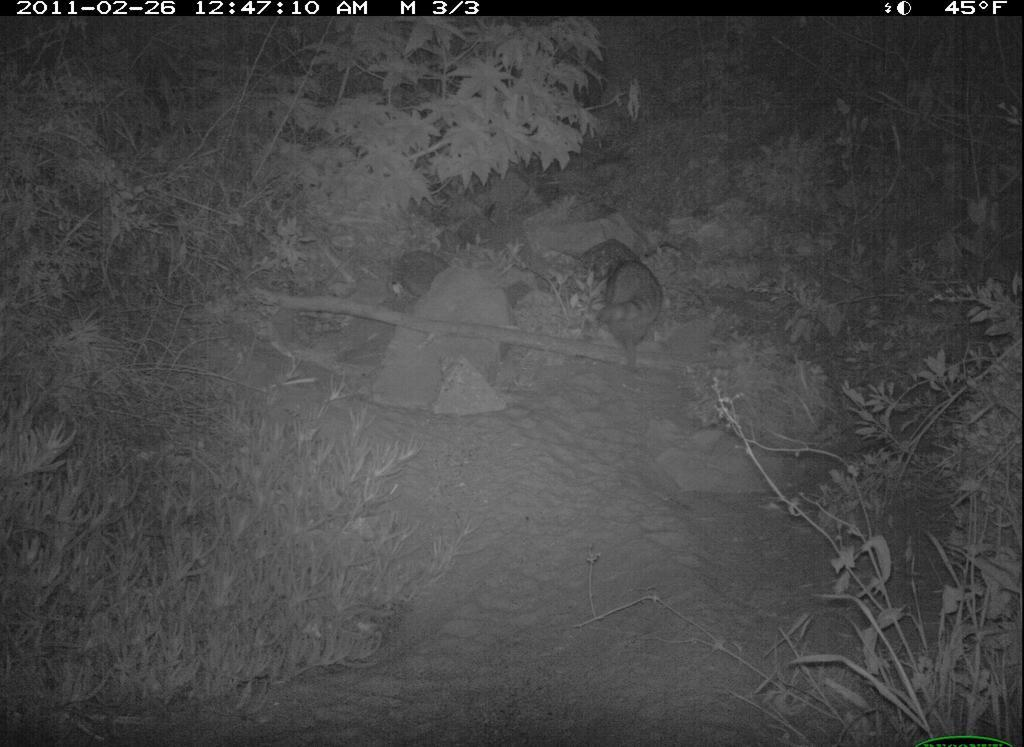raccoon: (575, 253, 694, 383)
